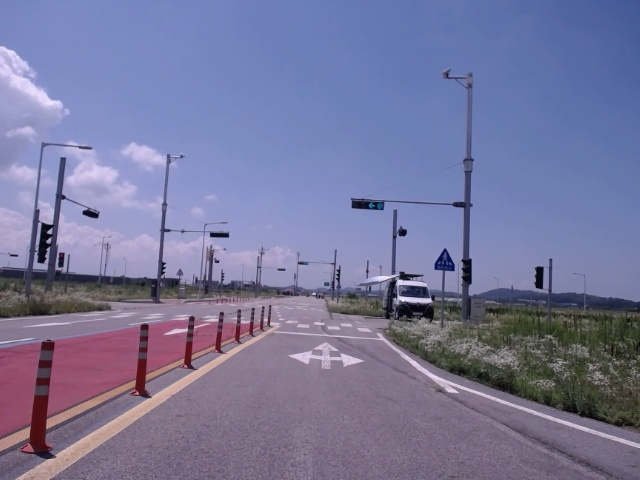all_green_4: (352, 197, 385, 209)
